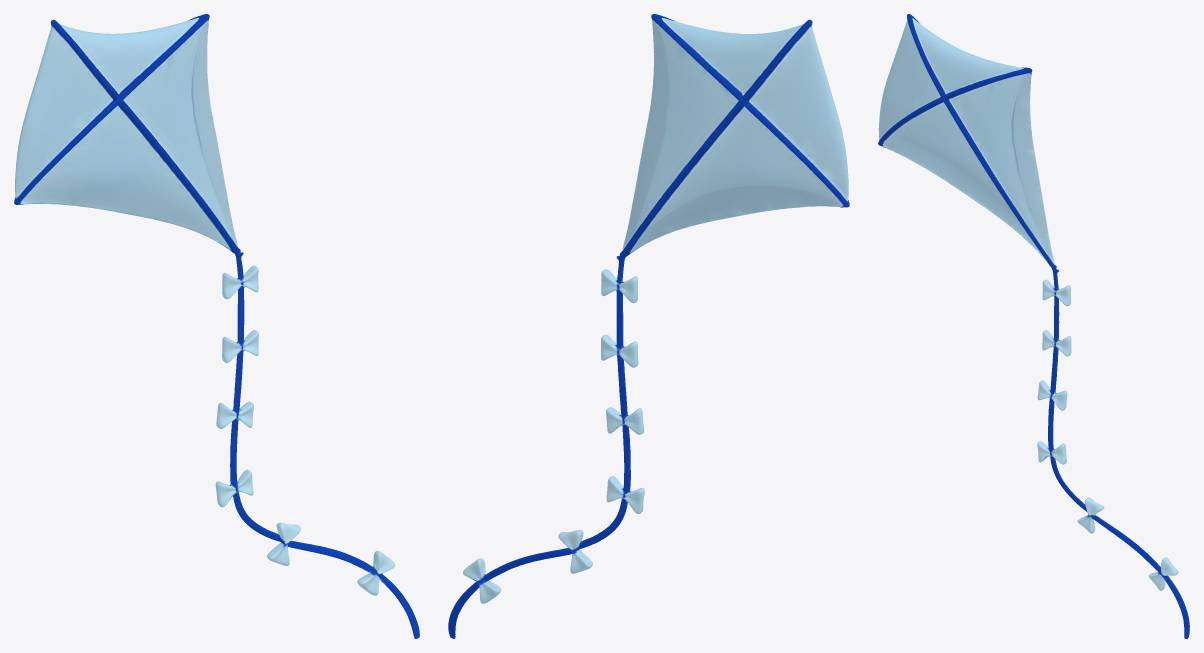
File: Aquilone.glb
3 renders of one model, left to right at view 1: azimuth 30°, elevation 25°; view 2: azimuth 150°, elevation 25°; view 3: azimuth 330°, elevation 25°, orthographic. The views are drawn at different scales.
Bounding box in the file's own units: 1.13 × 1.9 × 0.1154.
1 material, 1 textured.
